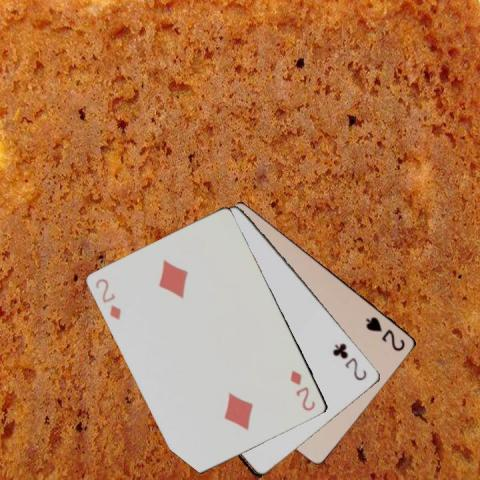2c: (330, 340, 369, 383)
2d: (93, 275, 123, 322), (288, 367, 318, 413)
2s: (364, 314, 407, 354)
